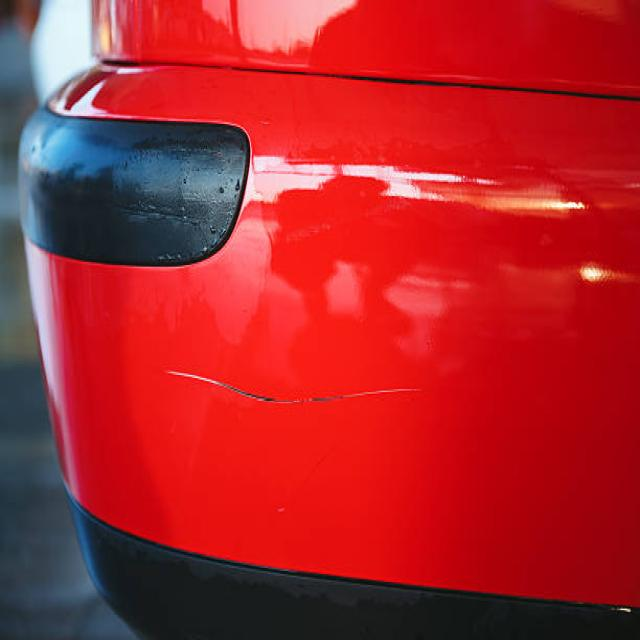scratch: (146, 343, 457, 451)
